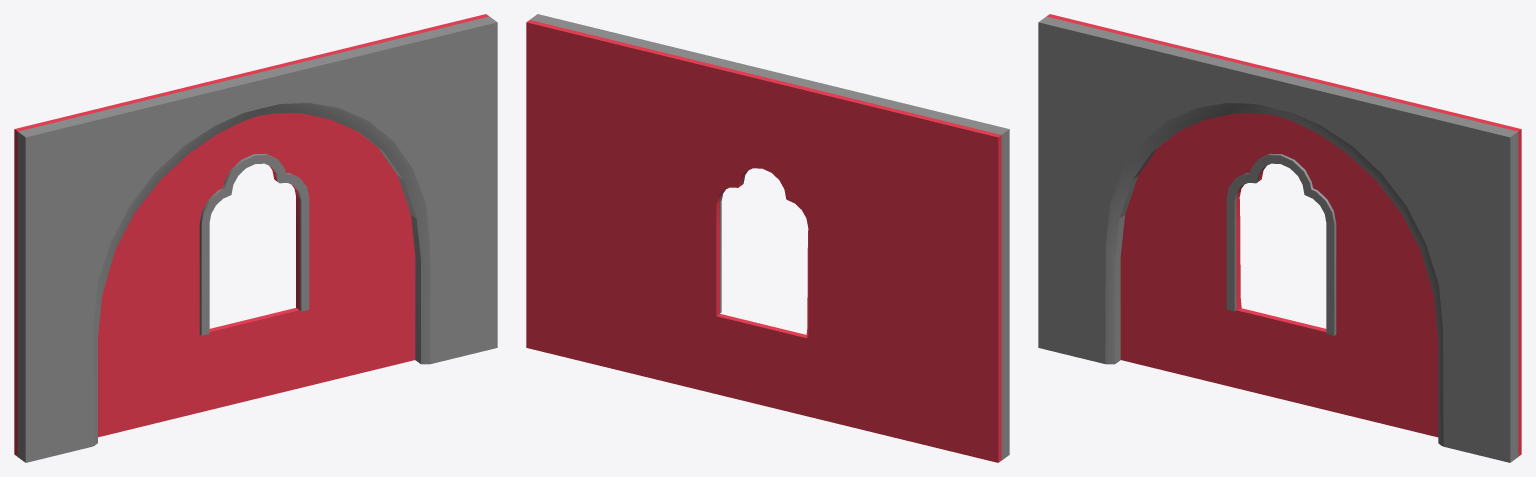
File: Doorway_Large_LO.FBX
3 renders of one model, left to right at view 1: azimuth 30°, elevation 25°; view 2: azimuth 150°, elevation 25°; view 3: azimuth 330°, elevation 25°, orthographic.
Parts seen in each view (by area): view 1: doorway_Large_LO_A, doorway_Large_LO_B; view 2: doorway_Large_LO_B, doorway_Large_LO_A; view 3: doorway_Large_LO_A, doorway_Large_LO_B.
Boxes of the visible parts, x1,y1,x2,y2 form: doorway_Large_LO_A: (17,16,497,462); doorway_Large_LO_B: (14,14,489,456); doorway_Large_LO_B: (526,20,1001,462); doorway_Large_LO_A: (530,14,1009,460); doorway_Large_LO_A: (1038,16,1518,462); doorway_Large_LO_B: (1046,14,1521,456).
Bounding box in the file's own units: 1000 × 659 × 41.79.
